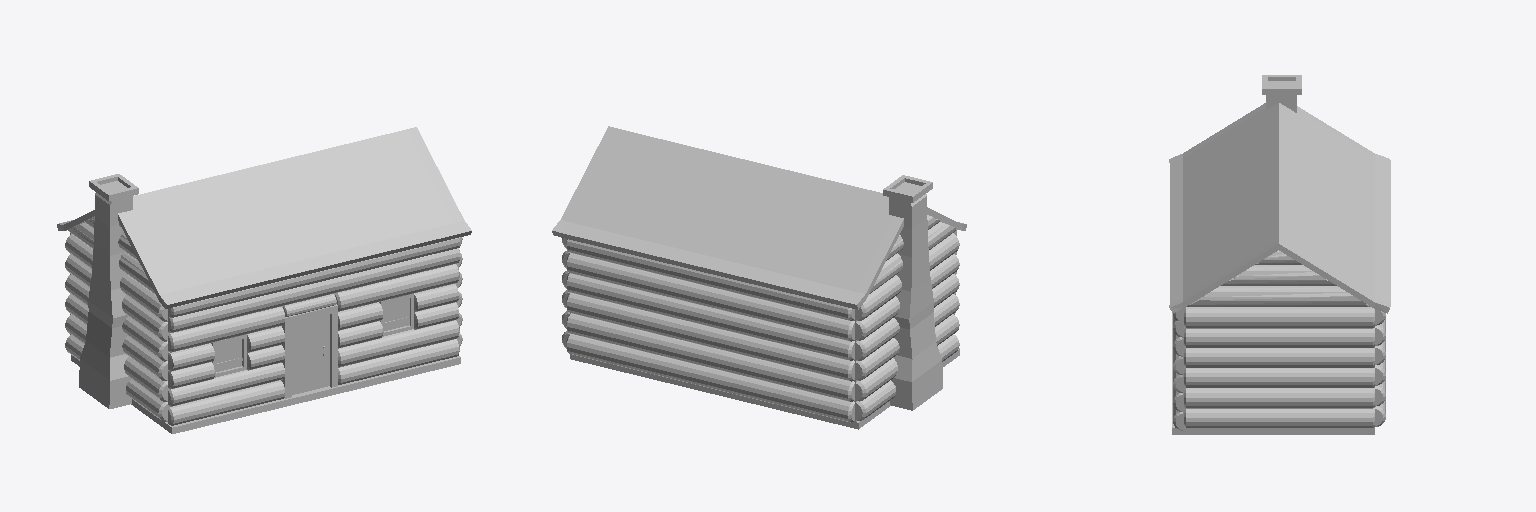
File: log_cabin.obj
3 views of the same model, side by side, from view 1: azimuth 30°, elevation 25°; view 2: azimuth 150°, elevation 25°; view 3: azimuth 270°, elevation 25° (orthographic).
Parts seen in each view (by area): view 1: Cube_Cube.001; view 2: Cube_Cube.001; view 3: Cube_Cube.001.
Part boxes in pixels (x1,y1,x2,y2): Cube_Cube.001: (57,127,471,433); Cube_Cube.001: (552,126,966,429); Cube_Cube.001: (1169,75,1390,434).
Bounding box in the file's own units: 11.02 × 6.88 × 6.56.